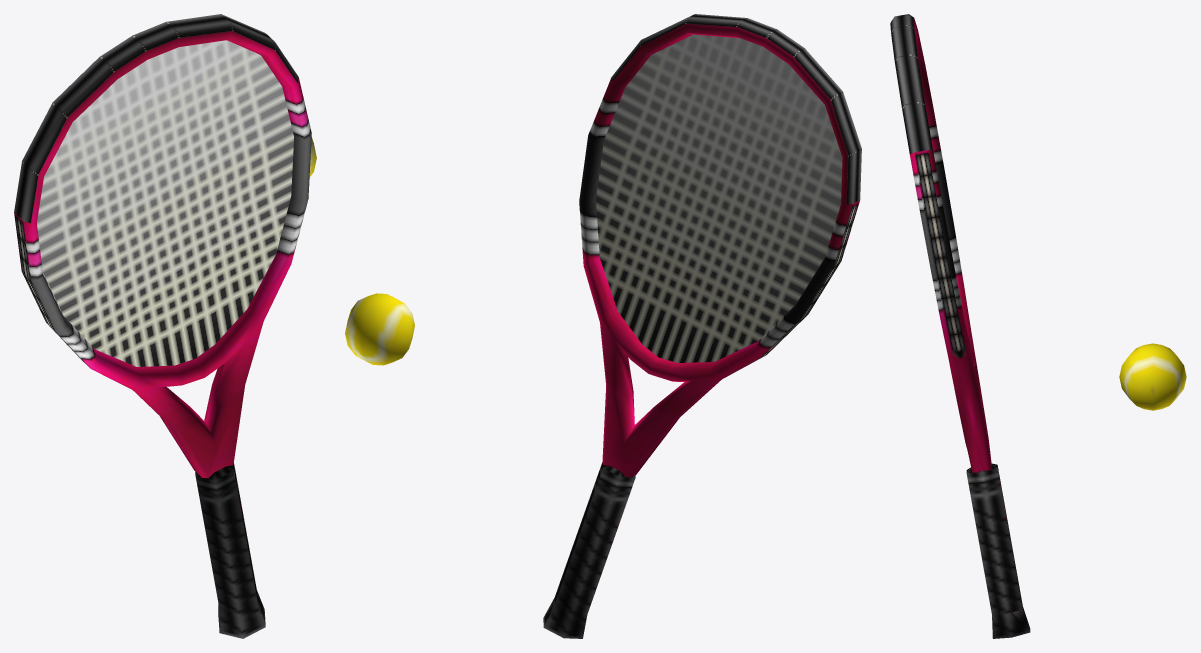
File: VIEW.ICO.obj
The picture shows the model from 3 angles, left to right: view 1: azimuth 30°, elevation 25°; view 2: azimuth 150°, elevation 25°; view 3: azimuth 270°, elevation 25°; orthographic projection. The views are drawn at different scales.
Bounding box in the file's own units: 3.05 × 4.58 × 2.2.
1 material, 1 textured.
